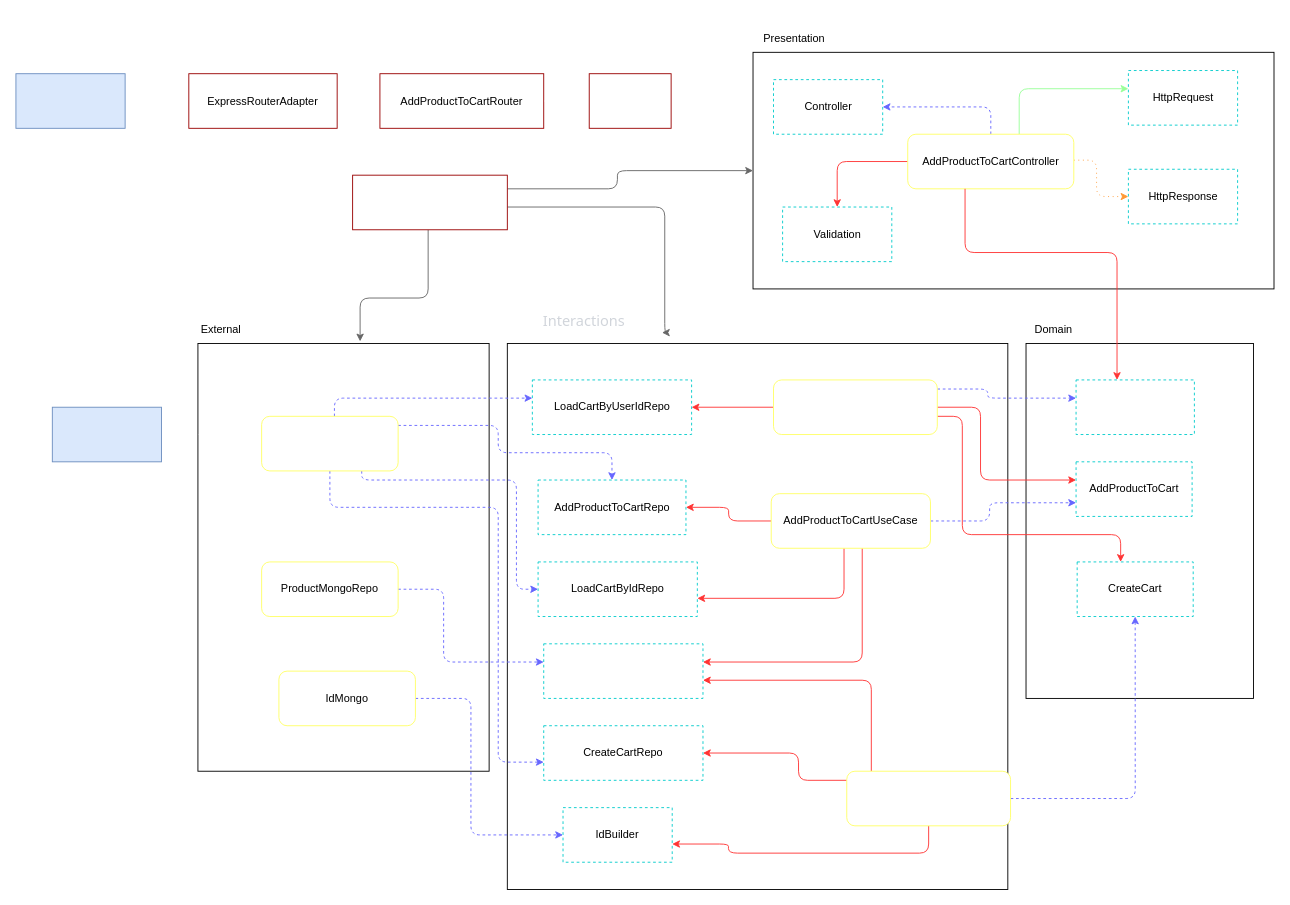
This 1290x905 diagram has some shape labels left out. The centre of each missing label's shape, as x and y in pixels:
"AddProductToCartFactory" belongs at point (429, 202).
"App" belongs at point (629, 100).
"CartManager" belongs at point (1134, 407).
"CartManagerUseCase" belongs at point (855, 407).
"CartMongoRepo" belongs at point (329, 443).
"CreateCartUseCase" belongs at point (928, 798).
"Express" belongs at point (70, 100).
"LoadProducByIdRepo" belongs at point (623, 670).
"MongoDb" belongs at point (106, 434).
